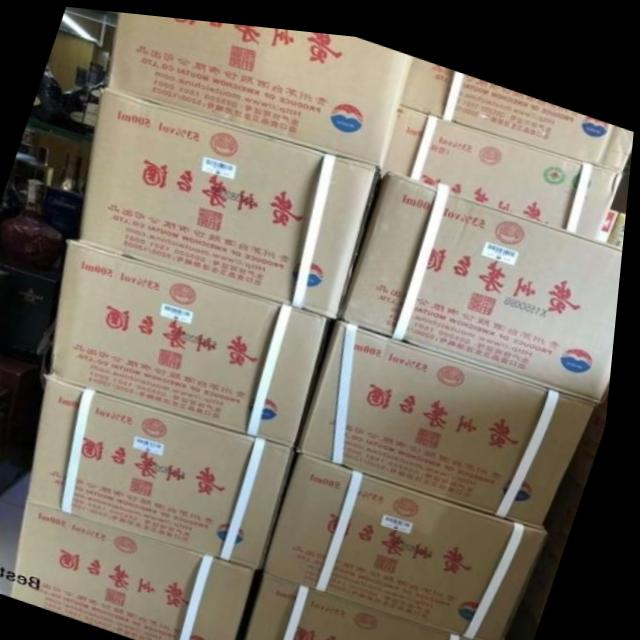box: (81, 83, 384, 311), (343, 163, 626, 390), (305, 311, 601, 515), (58, 236, 332, 441), (270, 444, 556, 637), (35, 373, 302, 564), (109, 10, 413, 157), (24, 501, 264, 640), (386, 96, 625, 228), (401, 49, 635, 160), (256, 567, 506, 640)
